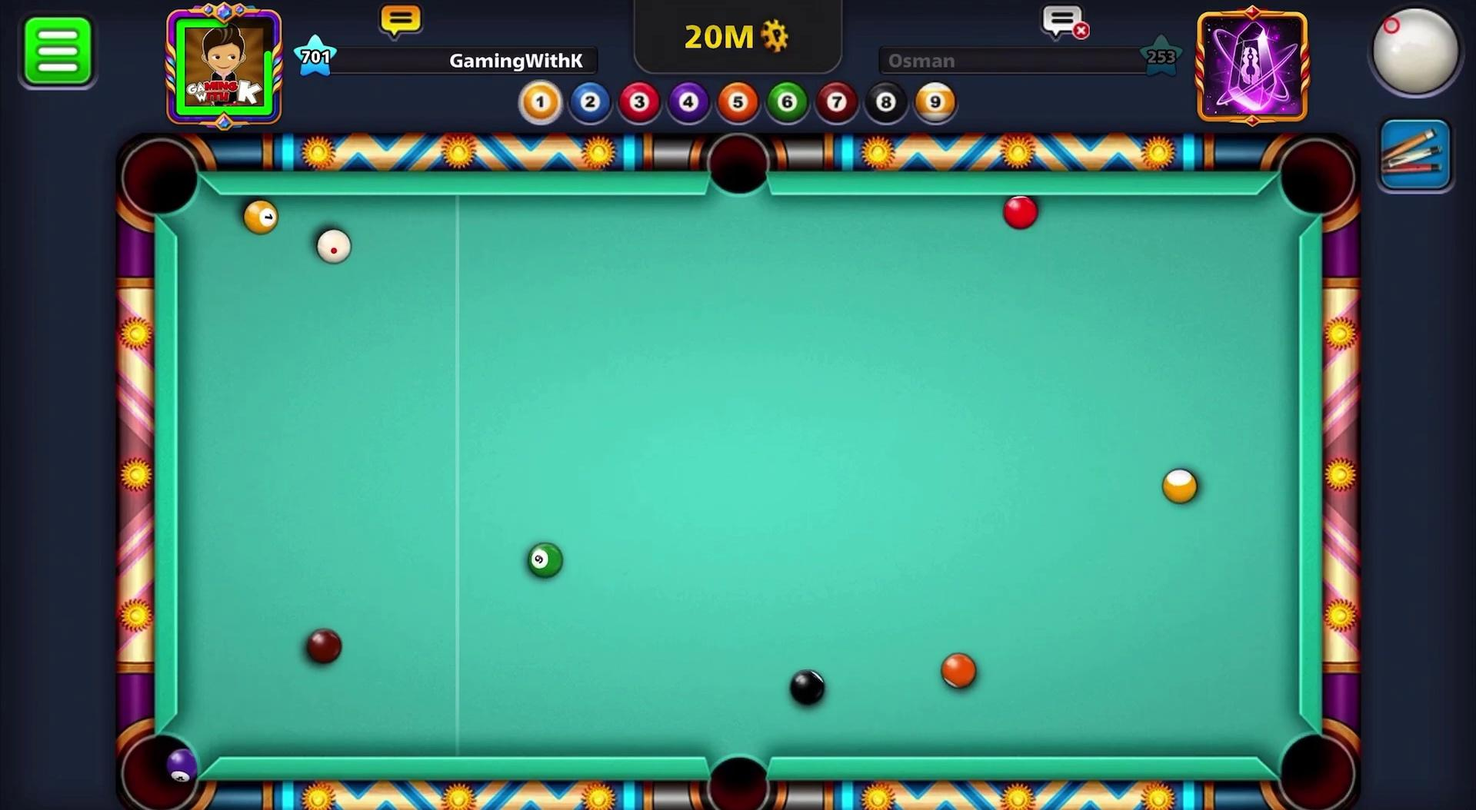Ball: (516, 536, 566, 585), (781, 667, 835, 712), (295, 625, 348, 670), (936, 649, 982, 695), (1161, 461, 1203, 511), (239, 194, 285, 239), (998, 194, 1044, 234)
Hole: (108, 123, 226, 241), (1264, 713, 1364, 809), (1268, 133, 1364, 229), (112, 715, 209, 809), (691, 741, 781, 809), (701, 124, 776, 204)
Play_Area: (172, 196, 1294, 762)
Spin: (1343, 0, 1474, 114)
White: (310, 222, 360, 266)
